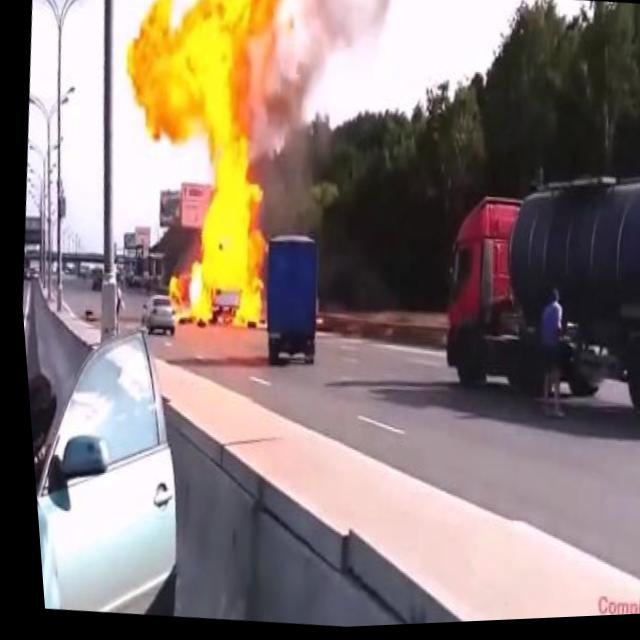fire: (147, 0, 298, 341), (108, 0, 201, 163)
